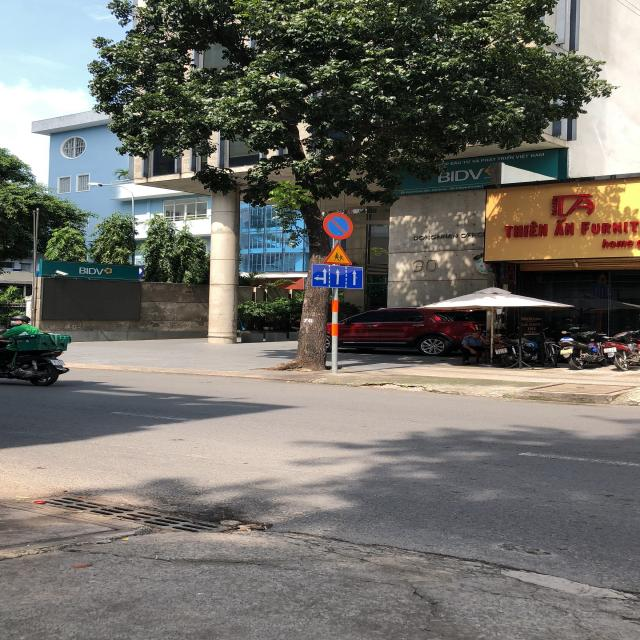Bien bao cam do xe: (321, 209, 359, 240)
Bien bao tre em: (317, 240, 358, 267)
